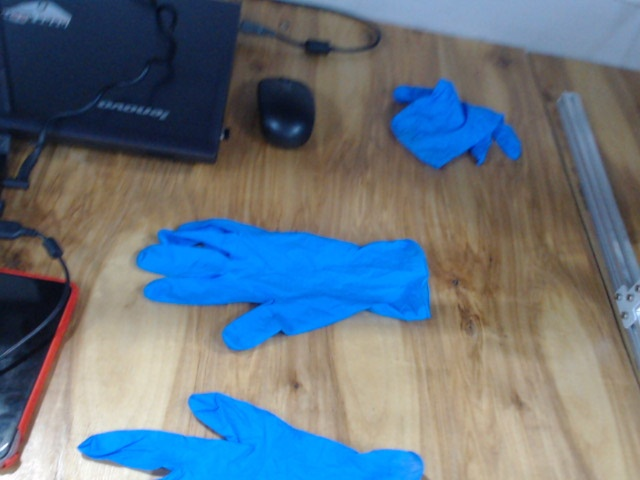medical_glove: (136, 218, 432, 350)
